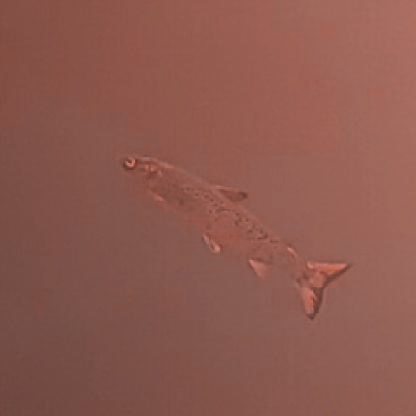salmon: (109, 144, 356, 321)
